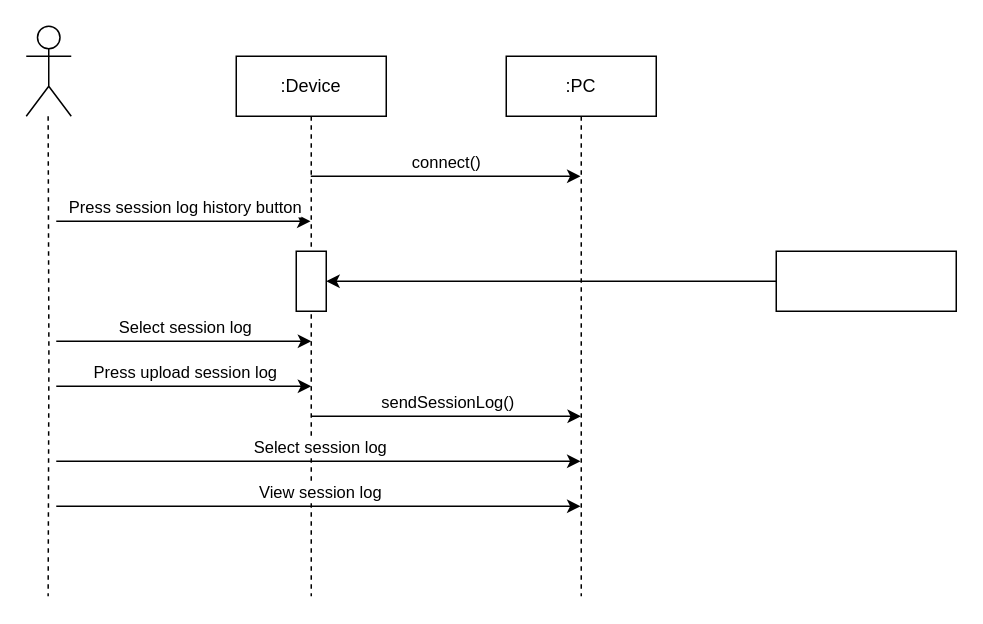
Some shapes in this 983 by 624 pixel diagram are drawn without their labels. The shapes that lost their labels are listed below. From the top down, each one's centre as x and y in pixels, then its label:
At point (48, 70): "Actor".
At point (865, 280): "viewSessionLog()".
